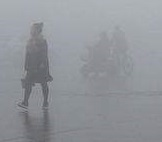person: (17, 21, 52, 109), (80, 31, 120, 78), (112, 23, 134, 76)
